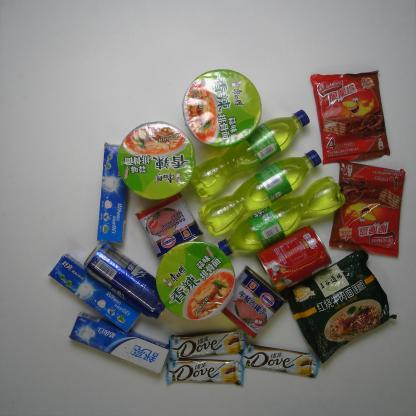Alcohol: (83, 242, 167, 321)
Canned Food: (254, 224, 332, 294), (221, 264, 288, 341), (134, 190, 205, 260)
Chocolate: (239, 344, 321, 379), (168, 328, 247, 362), (166, 357, 246, 386)
Dessert: (310, 68, 391, 166), (328, 160, 407, 258)
Drink: (197, 148, 323, 237), (216, 174, 346, 258), (190, 109, 310, 199)
Instant Noodles: (279, 249, 397, 366), (181, 67, 265, 149), (156, 240, 236, 323), (116, 120, 196, 202)
Personal Hygiene: (47, 252, 141, 334), (68, 312, 171, 376), (96, 142, 129, 244)
